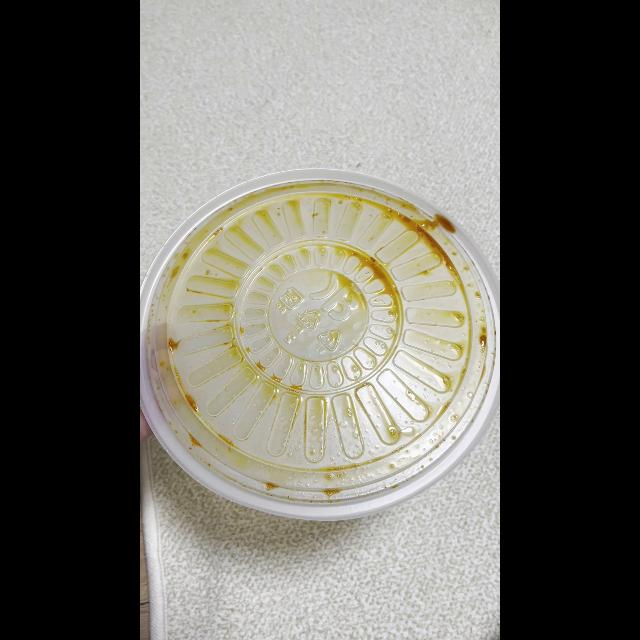dirty: (140, 171, 492, 511)
